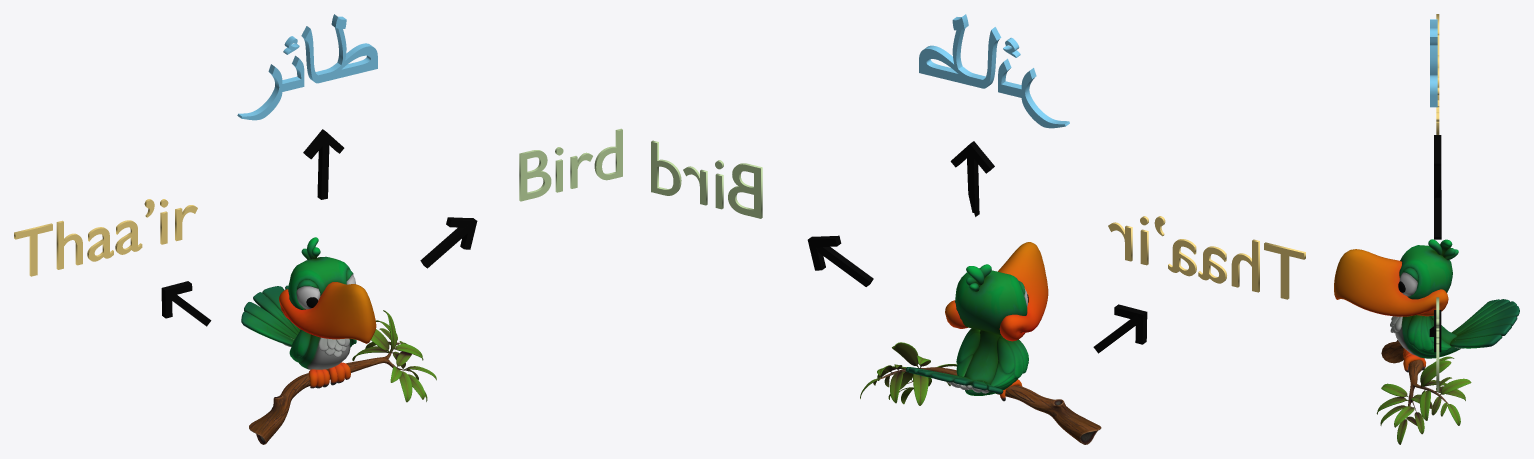
Rendered from Bird2.fbx.
3 views of the same model, side by side, from view 1: azimuth 30°, elevation 25°; view 2: azimuth 150°, elevation 25°; view 3: azimuth 270°, elevation 25° (orthographic). The views are drawn at different scales.
Visible parts, largest first — view 1: SM_Bird.001, SM_branch.001, text4, Text.001, Text, Cube.001, Cube.003, Cube.002; view 2: SM_Bird.001, text4, Text.001, SM_branch.001, Text, Cube.001, Cube.003, Cube.002; view 3: SM_Bird.001, SM_branch.001, text4, Cube.003, Text.001, Text, Cube.002, Cube.001.
Boxes of the visible parts, bbox=[...] form: SM_Bird.001: bbox=[241, 237, 376, 388]; SM_branch.001: bbox=[249, 310, 436, 444]; text4: bbox=[237, 14, 377, 120]; Text.001: bbox=[14, 199, 197, 276]; Text: bbox=[519, 128, 622, 201]; Cube.001: bbox=[420, 217, 477, 268]; Cube.003: bbox=[303, 129, 344, 199]; Cube.002: bbox=[161, 281, 211, 326]; SM_Bird.001: bbox=[905, 242, 1048, 401]; text4: bbox=[919, 14, 1069, 128]; Text.001: bbox=[1108, 216, 1305, 299]; SM_branch.001: bbox=[860, 342, 1101, 444]; Text: bbox=[651, 140, 762, 218]; Cube.001: bbox=[807, 235, 873, 286]; Cube.003: bbox=[950, 141, 994, 216]; Cube.002: bbox=[1093, 304, 1147, 353]; SM_Bird.001: bbox=[1334, 239, 1519, 372]; SM_branch.001: bbox=[1376, 340, 1471, 444]; text4: bbox=[1430, 19, 1437, 107]; Cube.003: bbox=[1434, 135, 1441, 200]; Text.001: bbox=[1436, 14, 1439, 134]; Text: bbox=[1436, 297, 1439, 391]; Cube.002: bbox=[1434, 190, 1441, 239]; Cube.001: bbox=[1429, 310, 1441, 352].
Bounding box in the file's own units: 178 × 110 × 48.29.
6 materials, 2 textured.
